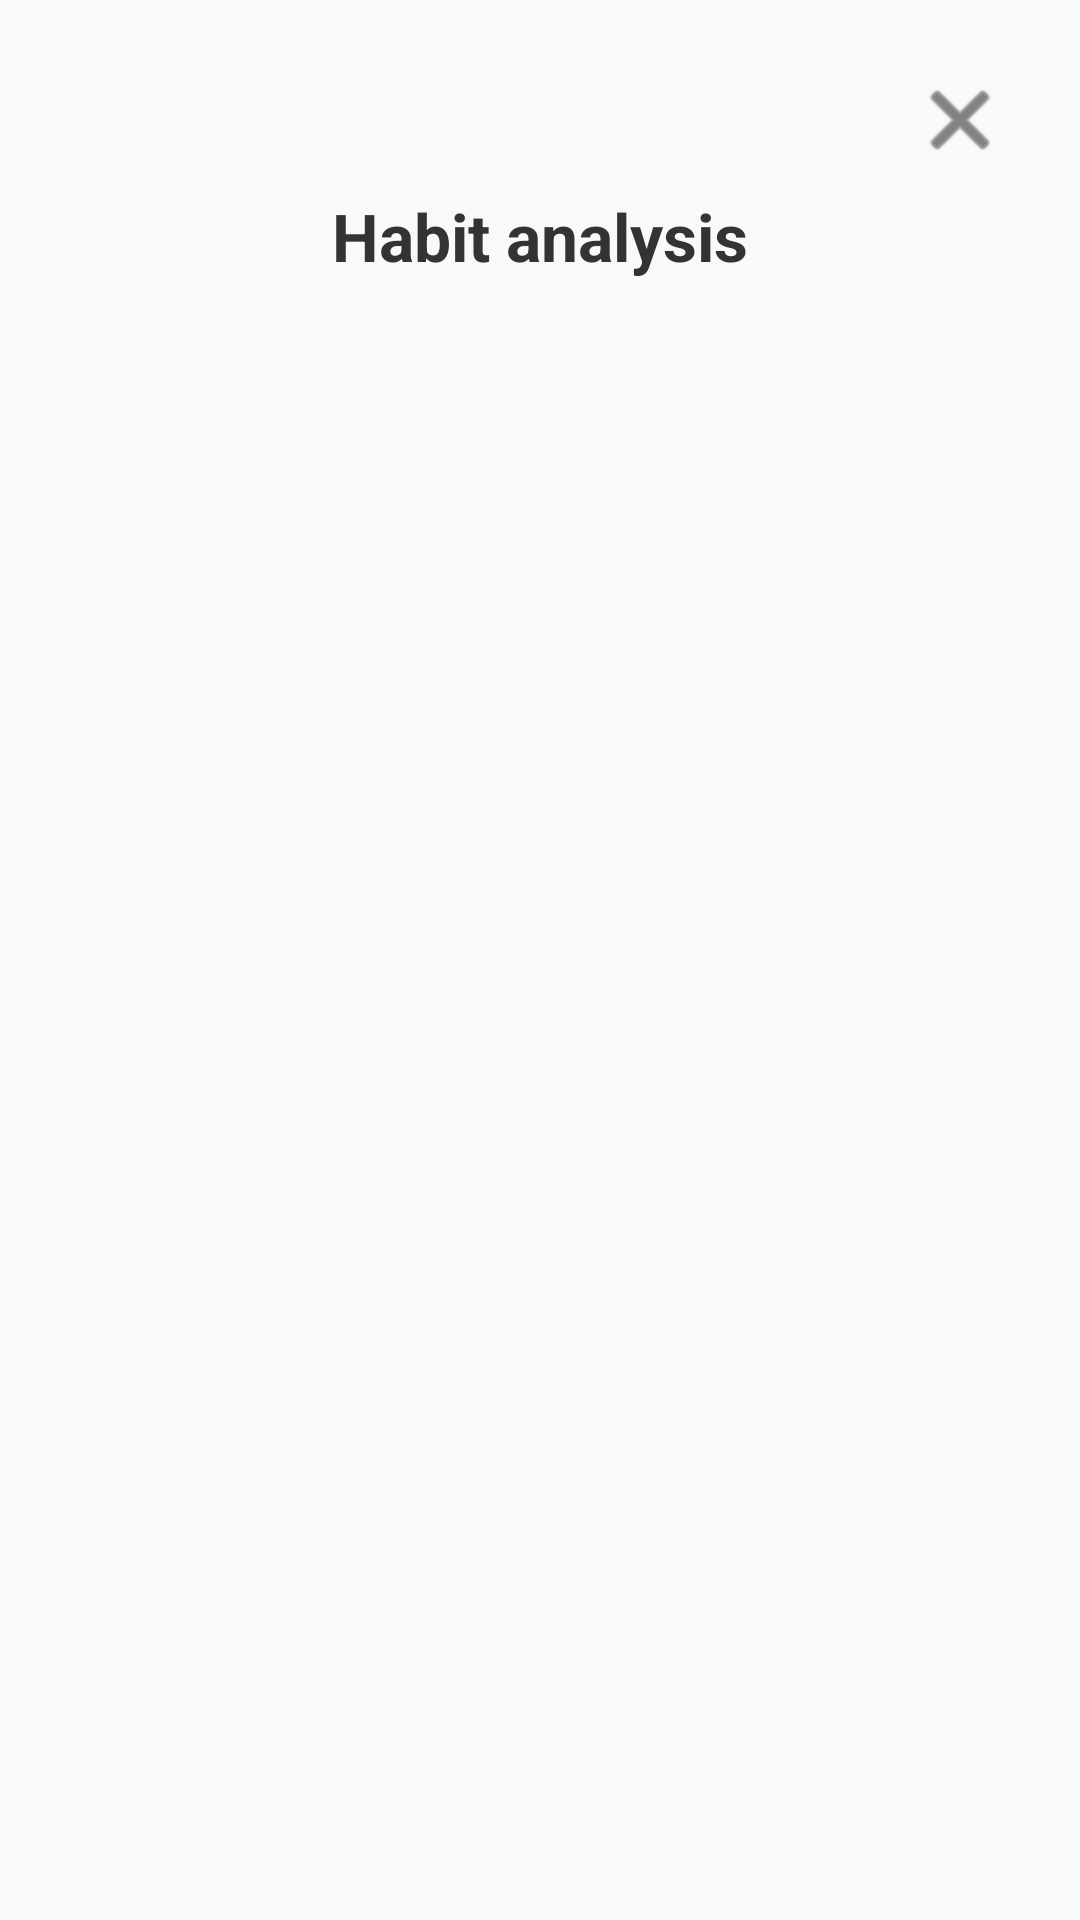

Locate icon controls on the screen. Image size 1080*1920, boxes as (x1, y1, x2, y2).
Close: (930, 90, 990, 150)
